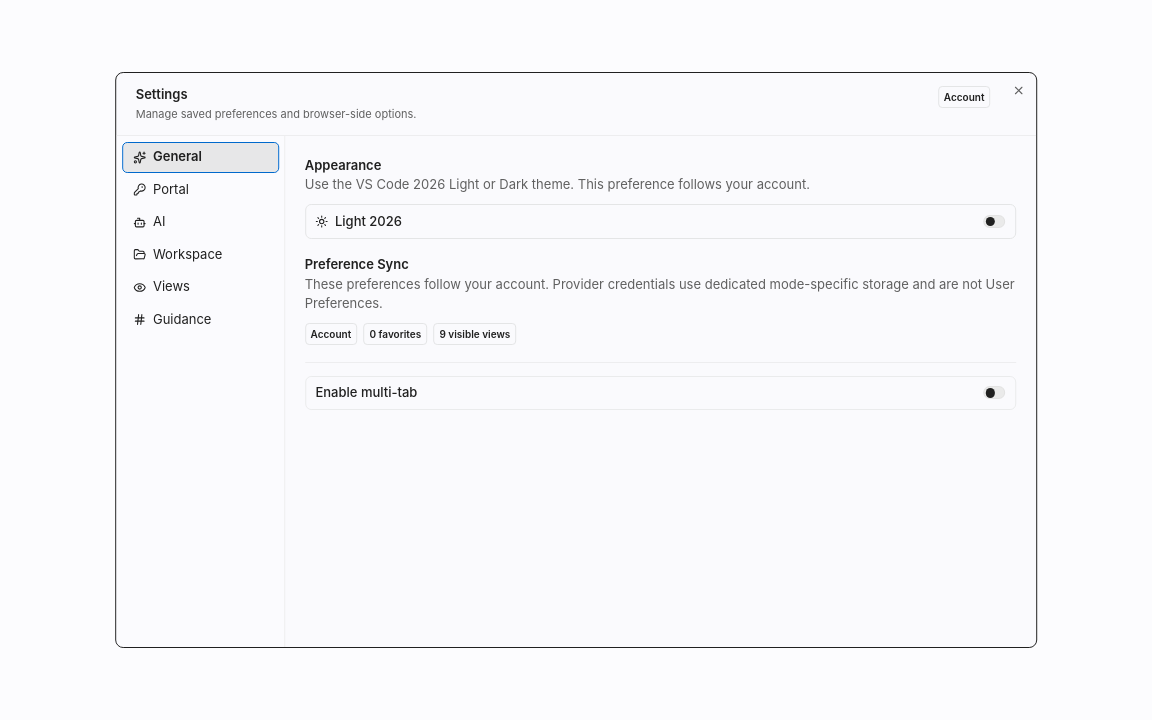
SettingsDialog › offers the backend-owned server path outside Tauri
Click the tab "Workspace" at [200, 255], box [123, 240, 278, 269]
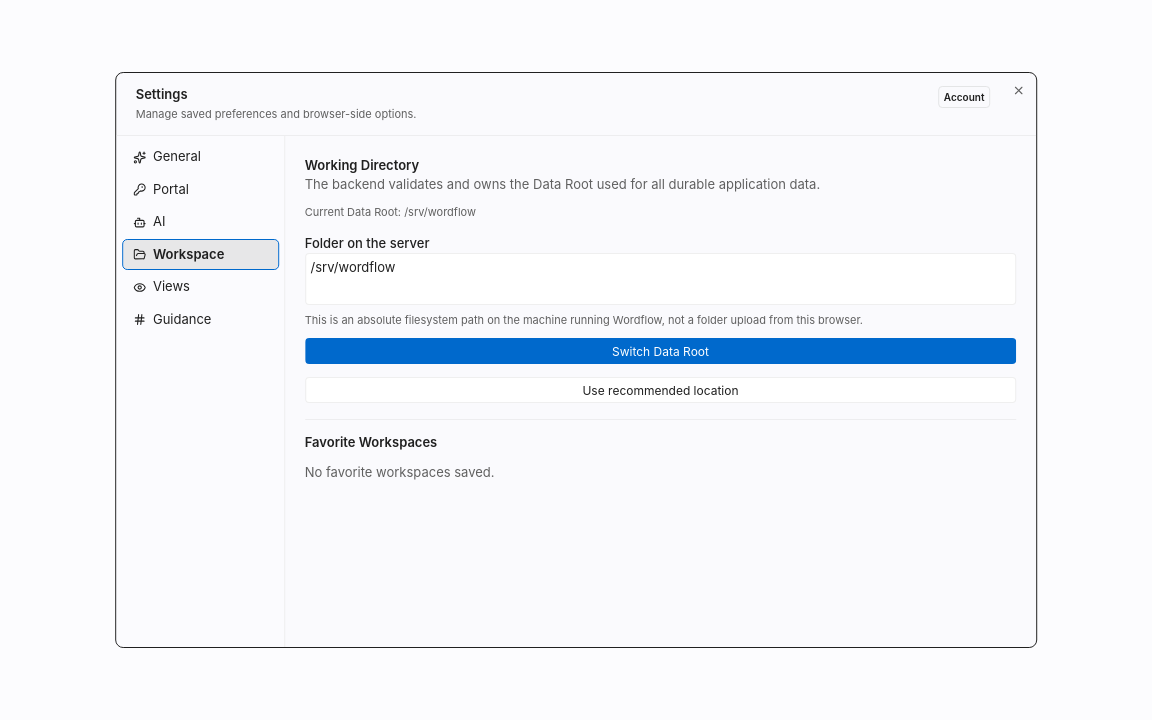
Now the text box labelled "Folder on the server" holds "/srv/wordflow", box [305, 253, 1016, 305]
